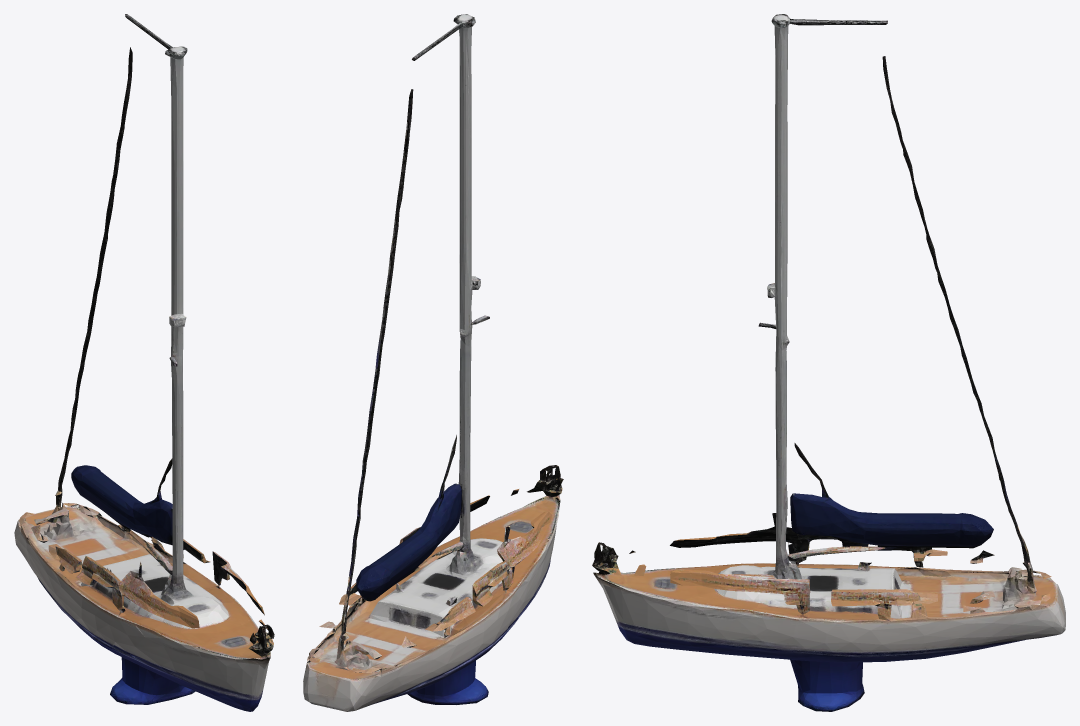
Rendered from yacht.glb.
3 views of the same model, side by side, from view 1: azimuth 30°, elevation 25°; view 2: azimuth 150°, elevation 25°; view 3: azimuth 270°, elevation 25° (orthographic). The views are drawn at different scales.
Parts seen in each view (by area): view 1: geometry_0; view 2: geometry_0; view 3: geometry_0.
Part boxes in pixels (left/top/right/bottom): geometry_0: left=14, top=14, right=274, bottom=711; geometry_0: left=303, top=14, right=563, bottom=711; geometry_0: left=592, top=14, right=1065, bottom=711.
Size of the model in its own units: 0.1888 by 0.999 by 0.6362.
Materials: 1 (1 with a texture image).
